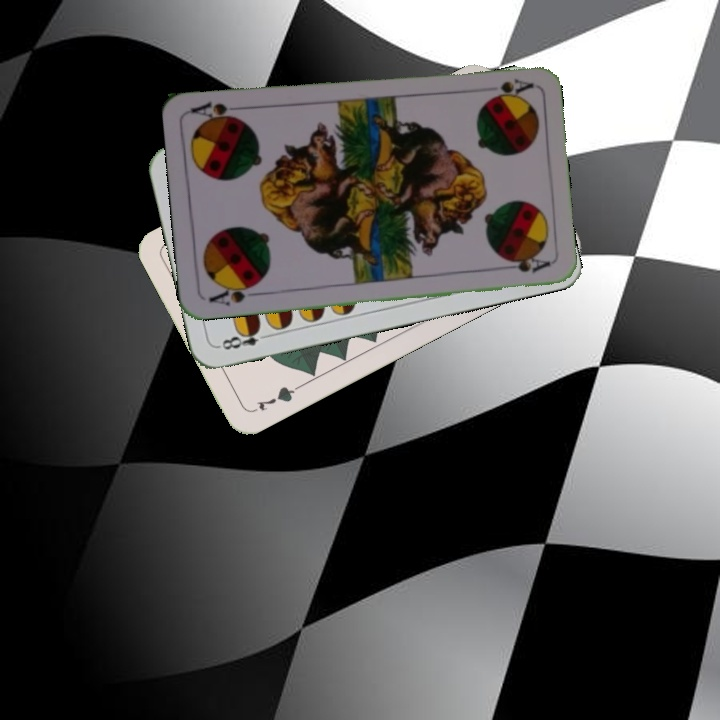E8: (214, 323, 273, 353)
G7: (253, 381, 302, 413)
SA: (205, 279, 262, 309), (493, 74, 535, 98)
